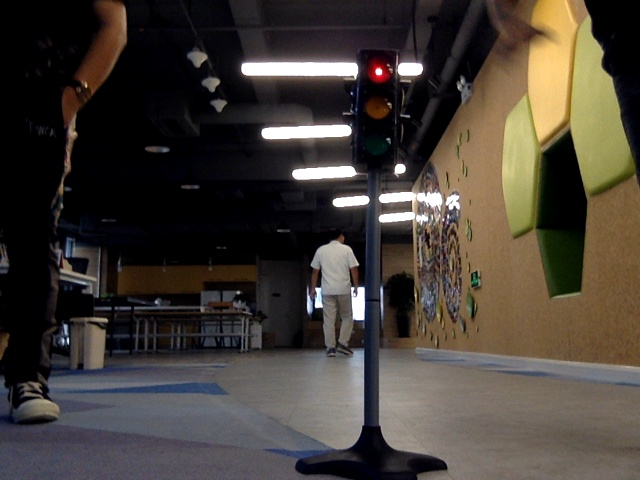red: (359, 53, 395, 166)
